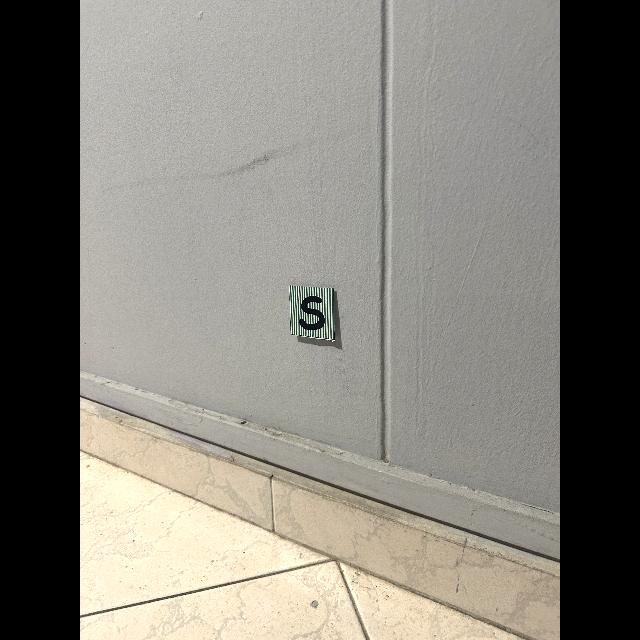S: (299, 296, 325, 330)
